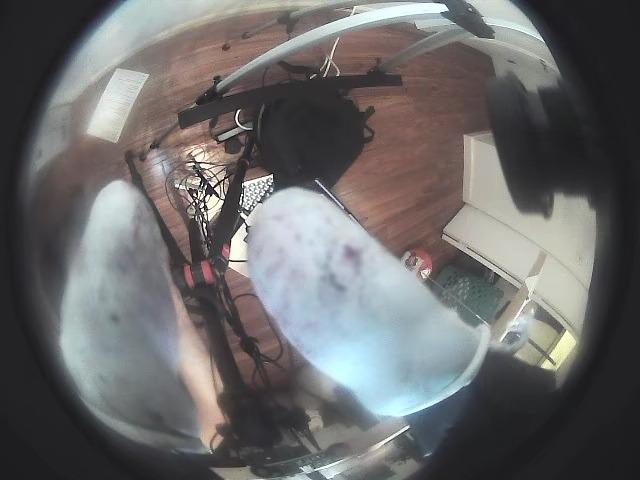gripper: (247, 187, 489, 416), (59, 179, 198, 450)
lense: (480, 1, 639, 479), (0, 0, 151, 477)
